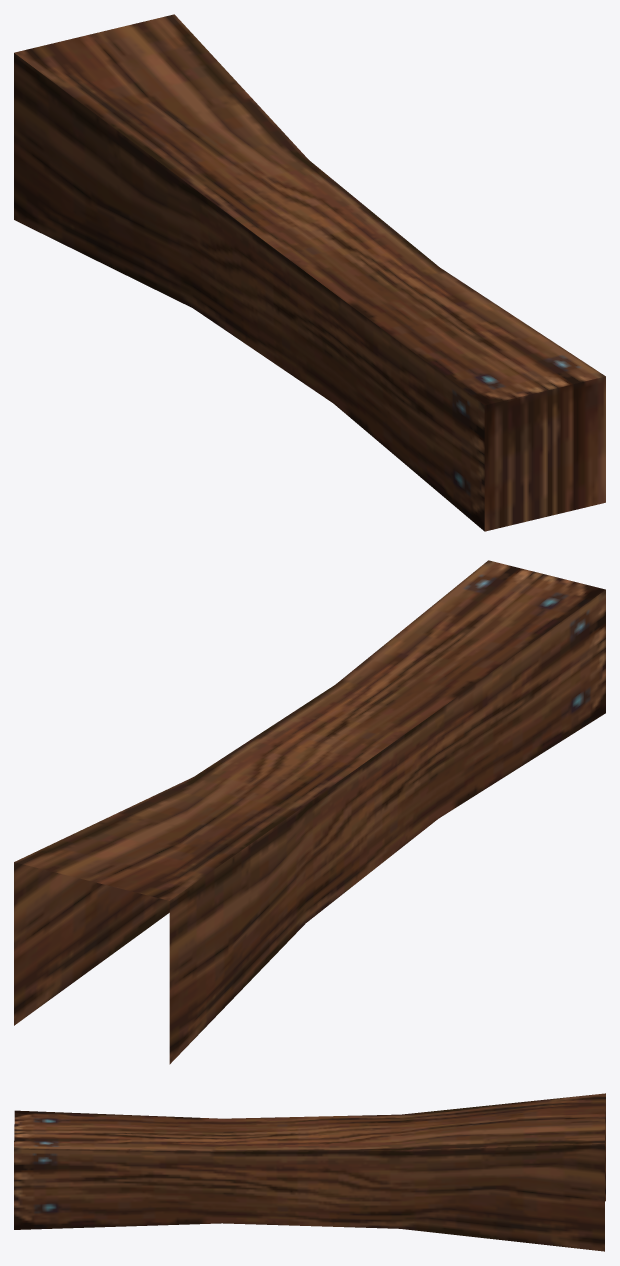
The model's file is OVERHILL_A_01_POST30.fbx.
3 views of the same model, one above another, from view 1: azimuth 30°, elevation 25°; view 2: azimuth 150°, elevation 25°; view 3: azimuth 270°, elevation 25° (orthographic). The views are drawn at different scales.
Parts seen in each view (by area): view 1: OVERHILL_A_01_POST30; view 2: OVERHILL_A_01_POST30; view 3: OVERHILL_A_01_POST30.
Boxes of the visible parts, <box> form: OVERHILL_A_01_POST30: <box>14,14,605,531</box>; OVERHILL_A_01_POST30: <box>14,560,605,1064</box>; OVERHILL_A_01_POST30: <box>14,1093,605,1251</box>.
Bounding box in the file's own units: 4299 × 4299 × 21380.
Materials: 1 (1 with a texture image).
